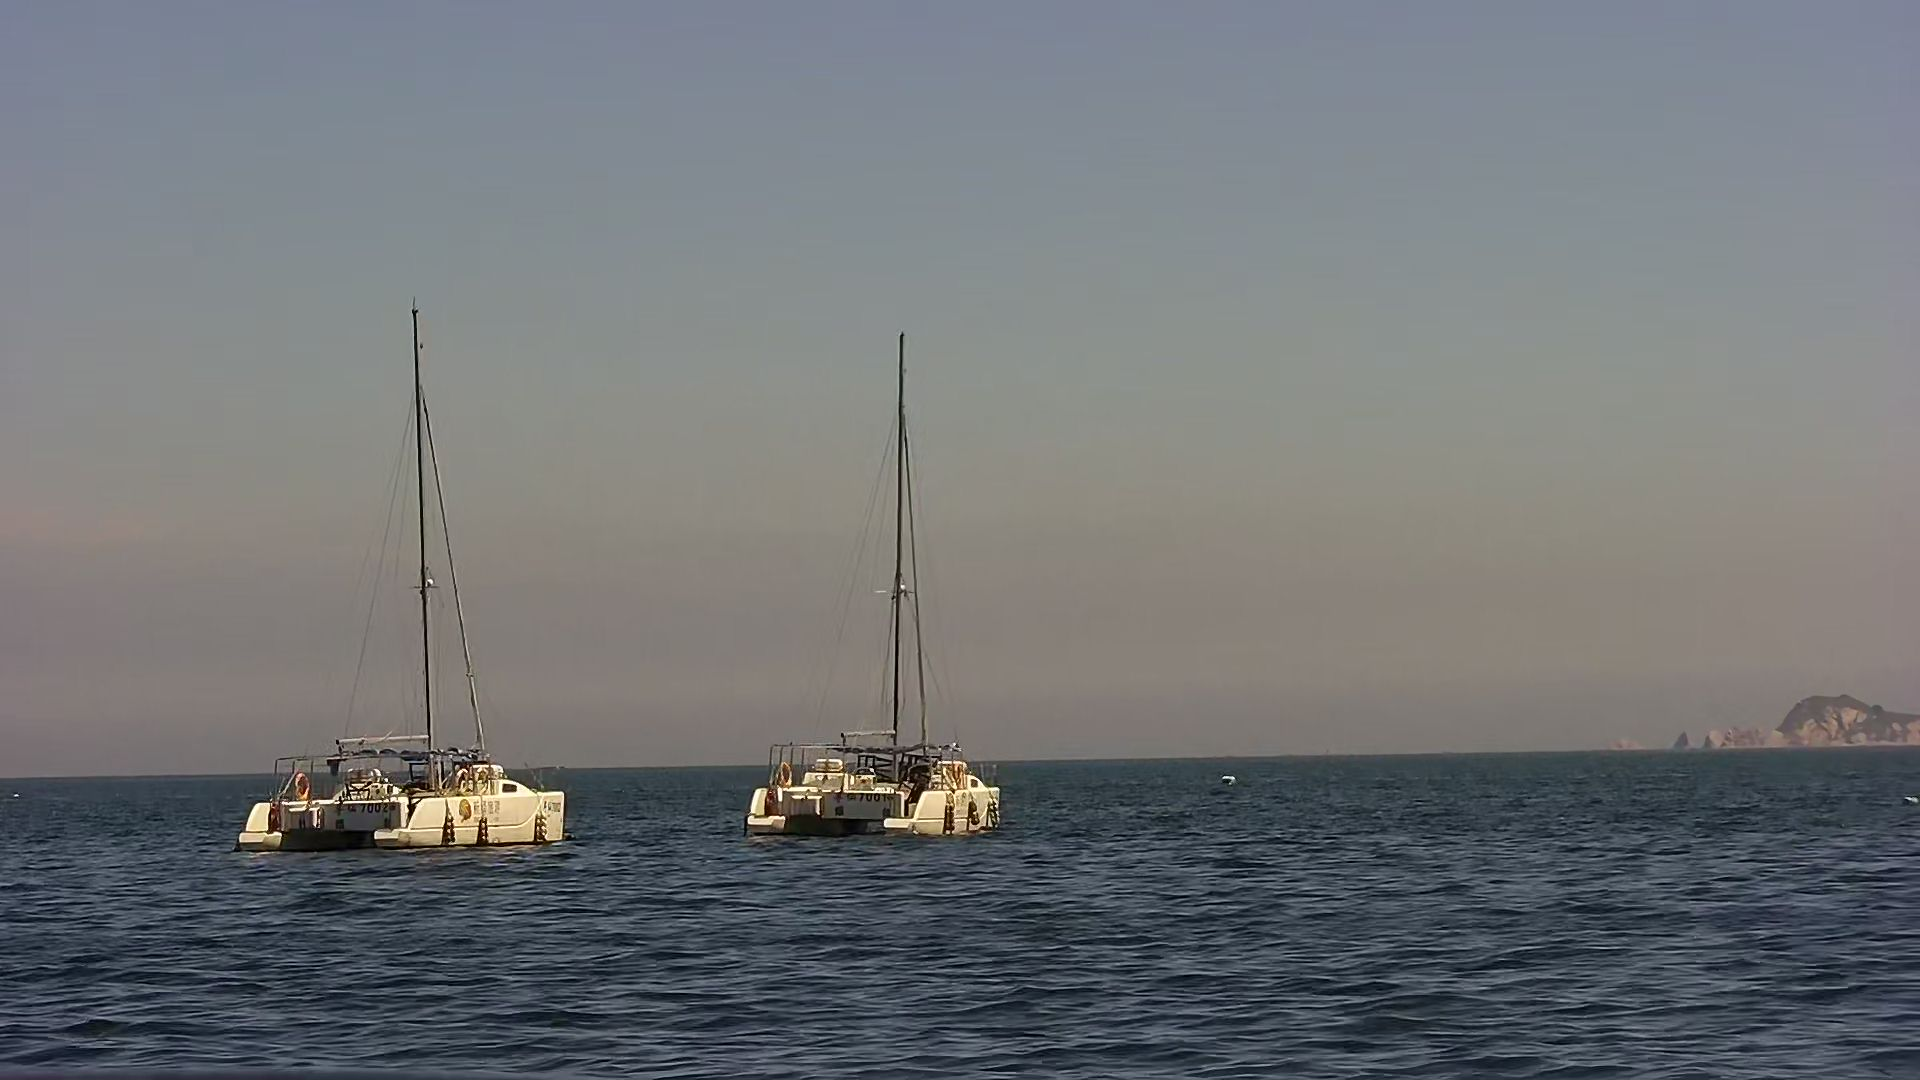boat: (225, 284, 583, 853), (736, 320, 1018, 843)
rock: (1626, 694, 1920, 746)
rubbish: (1213, 767, 1251, 789)
